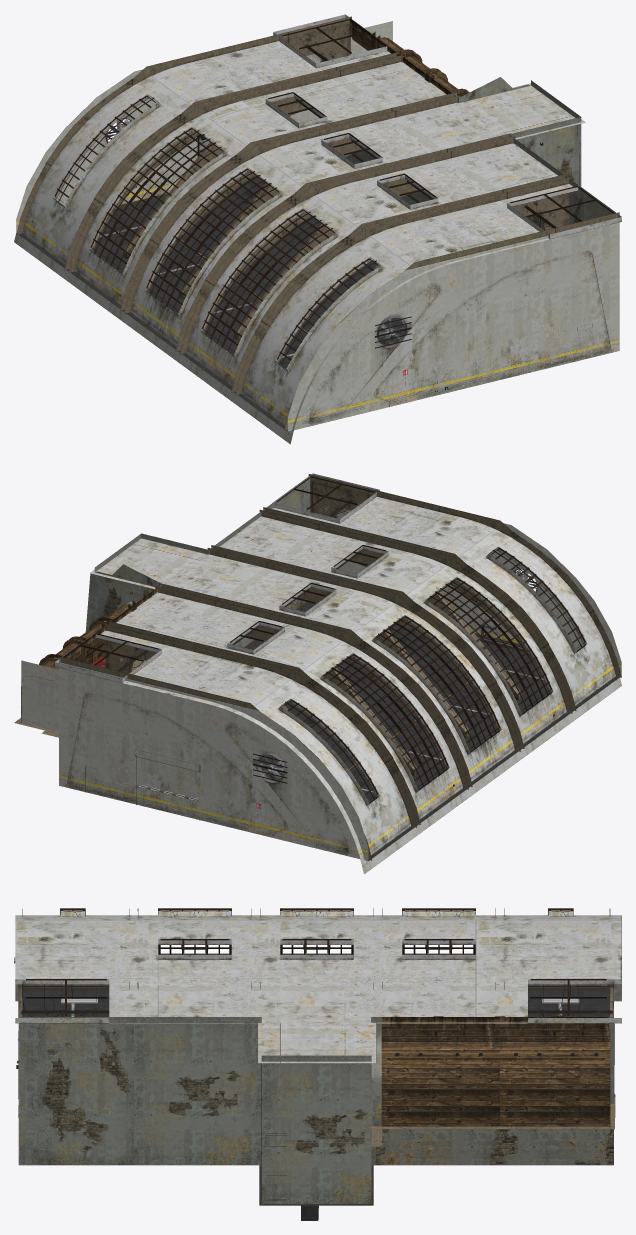
Rendered from Garage.fbx.
The picture shows the model from 3 angles, top to bottom: view 1: azimuth 30°, elevation 25°; view 2: azimuth 150°, elevation 25°; view 3: azimuth 270°, elevation 25°; orthographic projection. The views are drawn at different scales.
Visible parts, largest first — view 1: Warehouse-Base, Warehouse-Floor; view 2: Warehouse-Base, Warehouse-Floor; view 3: Warehouse-Base, Warehouse-Floor.
Part boxes in pixels (x1,y1,x2,y2): Warehouse-Base: (14,14,621,444); Warehouse-Floor: (18,45,555,431); Warehouse-Base: (14,473,621,874); Warehouse-Floor: (54,500,619,860); Warehouse-Base: (14,908,621,1203); Warehouse-Floor: (16,980,612,1220).
Size of the model in its own units: 35.47 by 13.6 by 40.86.
2 materials, 2 textured.
